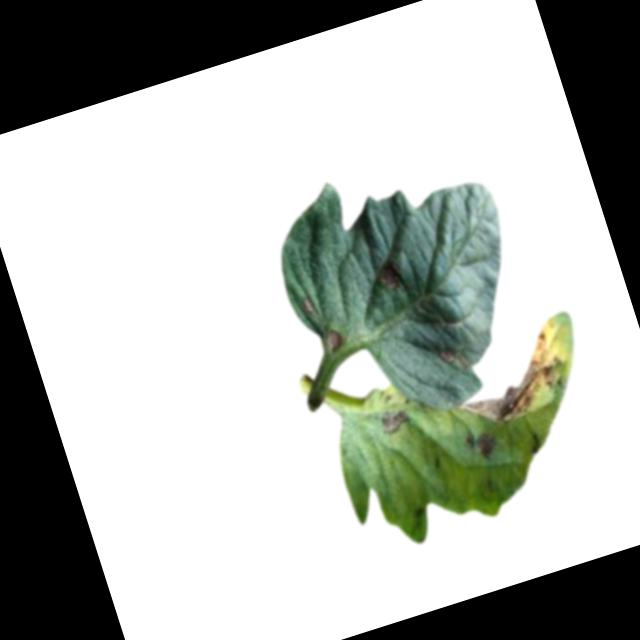Early_blight: (451, 329, 573, 433), (465, 428, 502, 465), (374, 257, 406, 294), (379, 406, 409, 439), (437, 345, 470, 373), (320, 326, 348, 358), (297, 295, 318, 319)
